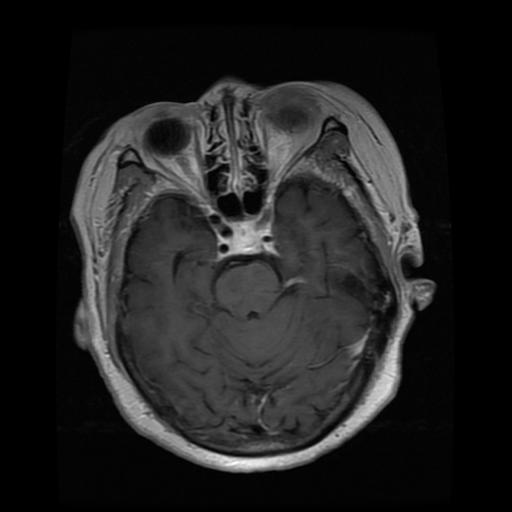Pituirity_tumour: (231, 219, 261, 251)
